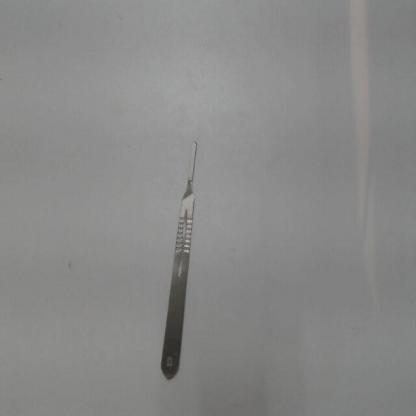No.4 BP Handle: (153, 136, 206, 388)
